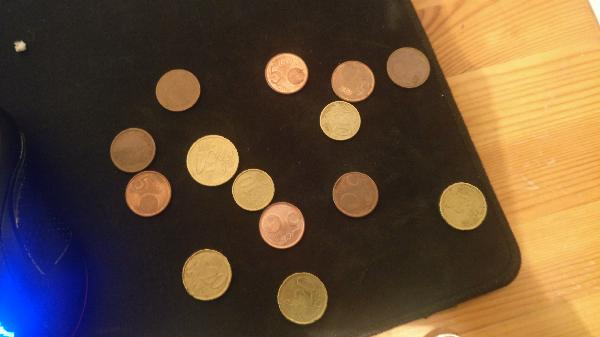Fifty Cent: (186, 136, 239, 186)
Five Cent: (332, 171, 385, 223), (122, 169, 174, 218), (257, 202, 310, 250), (328, 59, 381, 106), (109, 126, 157, 172), (386, 43, 431, 91), (264, 50, 309, 97), (157, 68, 200, 112)
Ten Cent: (320, 100, 366, 143), (234, 166, 276, 210)
Twenty Cent: (275, 270, 334, 325), (179, 247, 234, 302), (441, 176, 488, 236)
